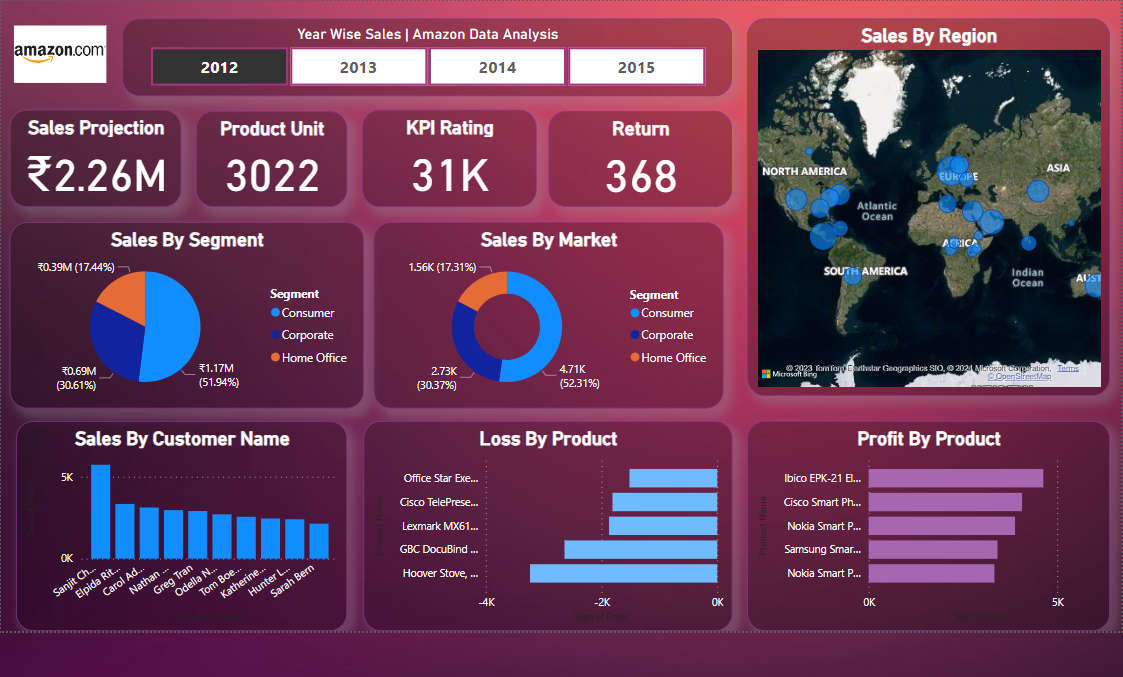

The page's visual inventory and layout, read from the dashboard file:
{"tool":"powerbi","page":{"name":"Report","canvas":[1280,720],"ordinal":0},"visuals":[{"type":"slicer","title":"Year Wise Sales | Amazon Data Analysis","fields":{"Values":["Orders.Year"]},"box":[138.6,20.6,697.1,89.2],"z":0},{"type":"card","title":"Sales Projection","fields":{"Values":["Orders.Sales"]},"box":[9.6,124.9,196.2,111.1],"z":1000},{"type":"image","box":[9.6,0,115.3,120.8],"z":2000},{"type":"card","title":"Product Unit ","fields":{"Values":["Orders.Product Name"]},"box":[222.3,126.2,172.9,109.8],"z":3000},{"type":"card","title":"KPI Rating","fields":{"Values":["Orders.Quantity"]},"box":[413,124.9,199,111.1],"z":4000},{"type":"card","title":"Return","fields":{"Values":["Orders.Ship Date"]},"box":[625.7,126.2,209.9,109.8],"z":5000},{"type":"pieChart","title":"Sales By Segment","fields":{"Y":["Orders.Sales"],"Category":["Orders.Segment"]},"box":[9.6,252.5,404.8,212.7],"z":6000},{"type":"donutChart","title":"Sales By Market","fields":{"Category":["Orders.Segment"],"Y":["Orders.Market"]},"box":[425,253,400,213],"z":7000},{"type":"columnChart","title":"Sales By Customer Name","fields":{"Category":["Orders.Customer Name"],"Y":["Orders.Profit"]},"box":[16.5,480.3,378.7,240.1],"z":8000},{"type":"clusteredBarChart","title":"Loss By Product","fields":{"Category":["Orders.Product Name"],"Y":["Orders.Profit"]},"box":[414.4,480.3,421.3,240.1],"z":9000},{"type":"clusteredBarChart","title":"Profit By Product","fields":{"Category":["Orders.Product Name"],"Y":["Orders.Profit"]},"box":[852.1,480.3,414.4,240.1],"z":10000},{"type":"map","title":"Sales By Region","fields":{"Category":["Orders.Region"],"Size":["Orders.Sales"]},"box":[852.1,20.6,414.4,430.9],"z":11000}]}

Visuals, with their boxes on the page's 1280x720 design canvas (x1, y1, x2, y2). These are canvas units, not pixel positions in the 1123x677 screenshot, which may show the page scaled, cropped or inside an application window:
"Year Wise Sales | Amazon Data Analysis" slicer: box(139, 21, 836, 110)
"Sales Projection" card: box(10, 125, 206, 236)
image: box(10, 0, 125, 121)
"Product Unit " card: box(222, 126, 395, 236)
"KPI Rating" card: box(413, 125, 612, 236)
"Return" card: box(626, 126, 836, 236)
"Sales By Segment" pieChart: box(10, 252, 414, 465)
"Sales By Market" donutChart: box(425, 253, 825, 466)
"Sales By Customer Name" columnChart: box(16, 480, 395, 720)
"Loss By Product" clusteredBarChart: box(414, 480, 836, 720)
"Profit By Product" clusteredBarChart: box(852, 480, 1266, 720)
"Sales By Region" map: box(852, 21, 1266, 452)
